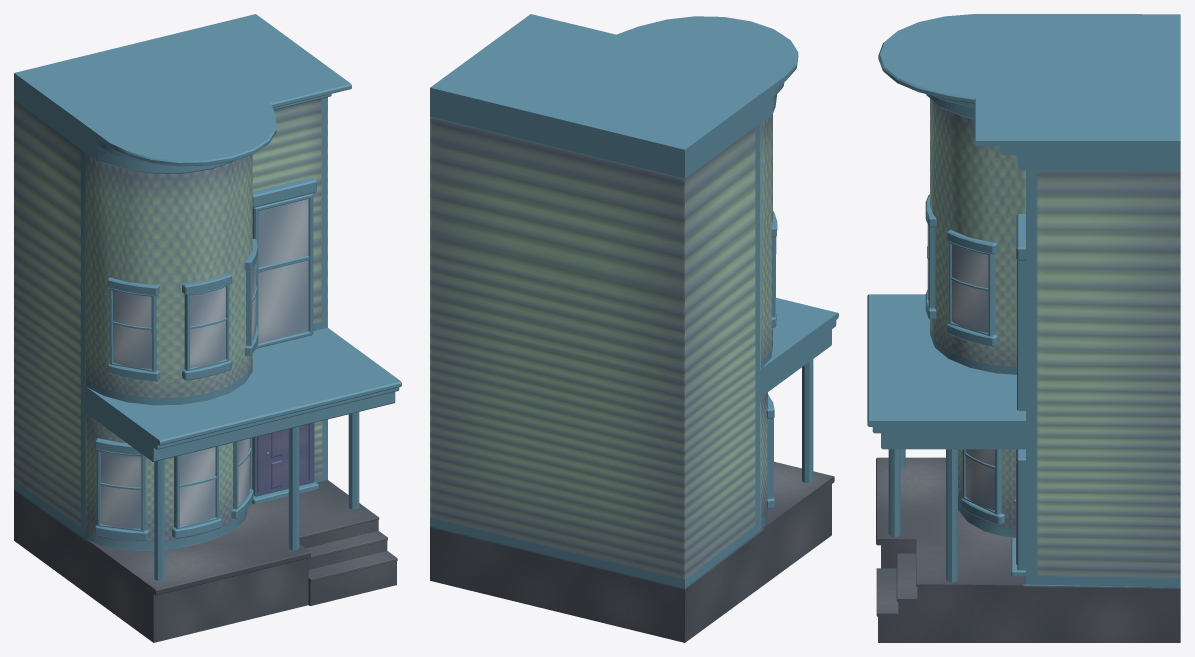
File: house2-1.fbx
3 views of the same model, side by side, from view 1: azimuth 30°, elevation 25°; view 2: azimuth 150°, elevation 25°; view 3: azimuth 270°, elevation 25° (orthographic). The views are drawn at different scales.
Parts seen in each view (by area): view 1: polySurface38; view 2: polySurface38; view 3: polySurface38.
Part boxes in pixels (x1,y1,x2,y2): polySurface38: (14, 14, 401, 642); polySurface38: (430, 14, 838, 642); polySurface38: (867, 14, 1180, 642).
Size of the model in its own units: 5.03 by 9.25 by 5.23.
